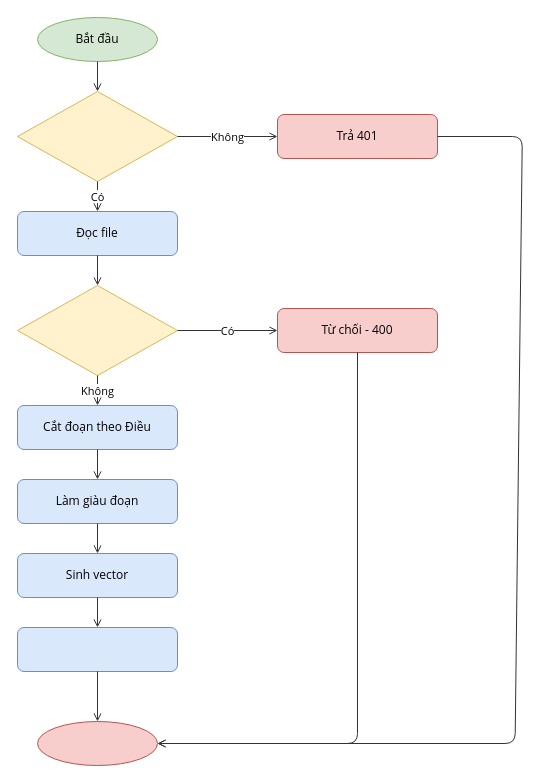
Some shapes in this 548 by 783 pixel diagram are drawn without their labels. Here are the shapes that lost their labels. From the top down, the centre of each, then its label:
At point 97,136: "Đã đăng nhập?".
At point 97,330: "Là PDF scan?".
At point 97,649: "Lưu kho vector".
At point 97,743: "Kết thúc".
